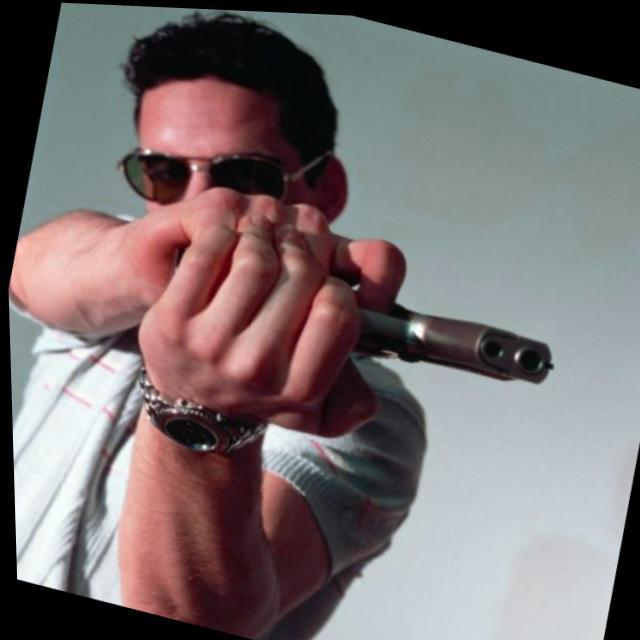weapon: (304, 267, 566, 402)
